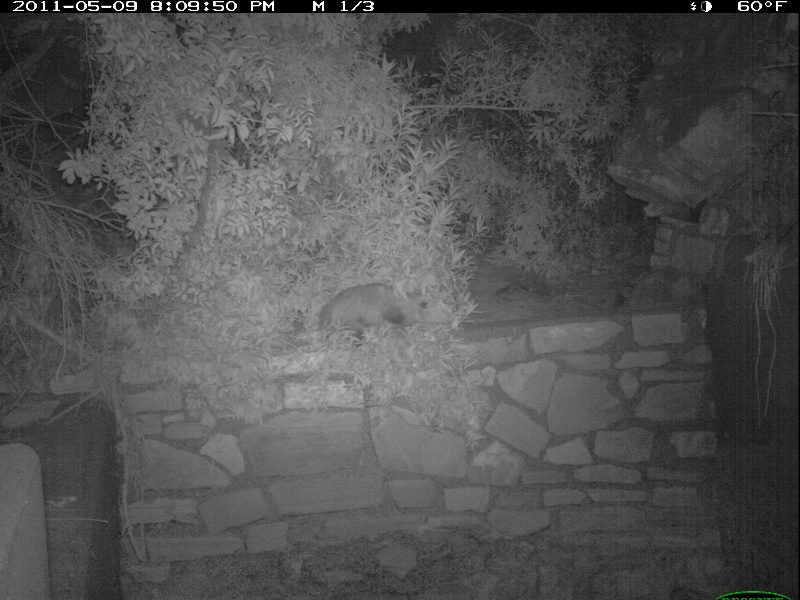opossum: (315, 283, 441, 343)
